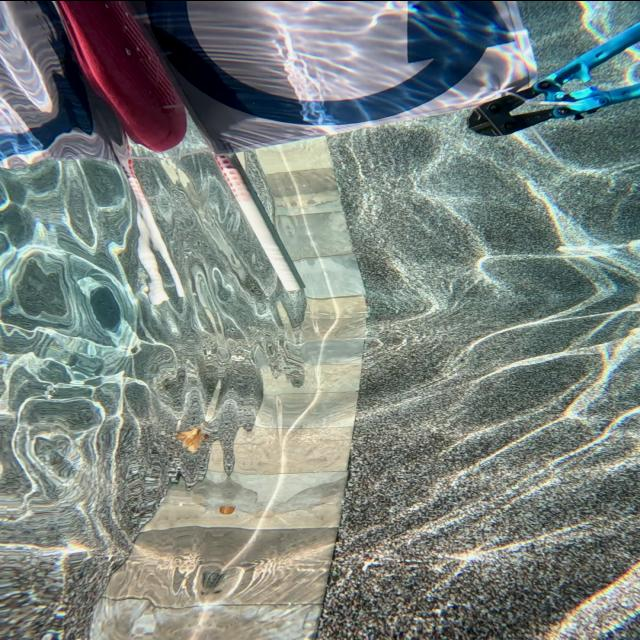blue_side: (135, 0, 535, 175)
